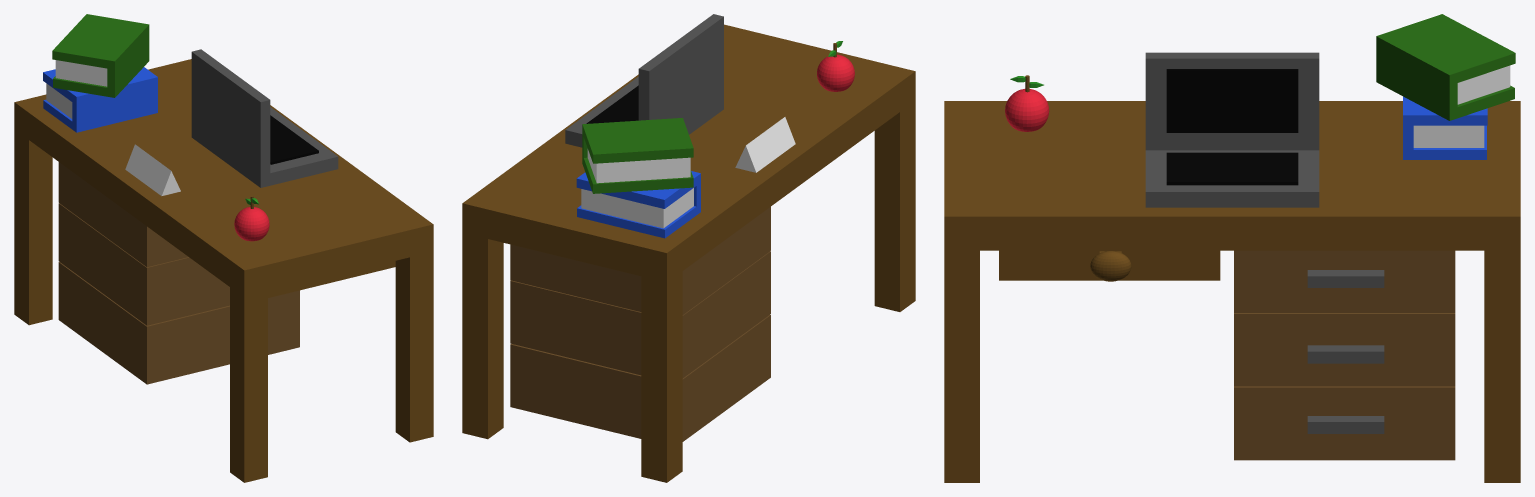
Rendered from teacherDesk.fbx.
3 renders of one model, left to right at view 1: azimuth 30°, elevation 25°; view 2: azimuth 150°, elevation 25°; view 3: azimuth 270°, elevation 25°, orthographic. The views are drawn at different scales.
Parts seen in each view (by area): view 1: table, drawer1, laptop, drawer2, bookCover.001, drawer3, bookCover, nameplate, keyboard, bookPaper.001, apple, singleDrawer (+1 smaller); view 2: table, drawer1, drawer2, drawer3, laptop, bookCover.001, bookCover, bookPaper, bookPaper.001, nameplate, apple, keyboard; view 3: table, drawer1, drawer2, laptop, drawer3, bookCover.001, screen, singleDrawer, keyboard, bookCover, bookPaper, apple (+4 smaller).
Part boxes in pixels (<box>): table: <box>14,59,433,482</box>; drawer1: <box>58,262,299,384</box>; laptop: <box>191,49,338,187</box>; drawer2: <box>58,203,229,325</box>; bookCover.001: <box>52,14,149,97</box>; drawer3: <box>58,162,188,267</box>; bookCover: <box>43,67,157,132</box>; nameplate: <box>125,144,180,195</box>; keyboard: <box>270,115,318,164</box>; bookPaper.001: <box>55,60,107,86</box>; apple: <box>234,207,269,241</box>; singleDrawer: <box>268,261,395,297</box>; table: <box>462,24,915,482</box>; drawer1: <box>510,315,770,441</box>; drawer2: <box>510,251,770,378</box>; drawer3: <box>510,207,770,314</box>; laptop: <box>565,14,723,147</box>; bookCover.001: <box>582,118,693,193</box>; bookCover: <box>576,171,700,238</box>; bookPaper: <box>581,188,693,228</box>; bookPaper.001: <box>587,149,690,183</box>; nameplate: <box>735,117,795,172</box>; apple: <box>817,54,854,91</box>; keyboard: <box>586,85,638,123</box>; table: <box>944,101,1520,482</box>; drawer1: <box>1234,386,1455,460</box>; drawer2: <box>1234,313,1455,386</box>; laptop: <box>1145,52,1319,207</box>; drawer3: <box>1234,250,1455,312</box>; bookCover.001: <box>1376,14,1515,120</box>; screen: <box>1166,69,1298,132</box>; singleDrawer: <box>999,250,1220,281</box>; keyboard: <box>1166,152,1298,185</box>; bookCover: <box>1403,96,1487,159</box>; bookPaper: <box>1413,125,1484,147</box>; apple: <box>1005,89,1049,131</box>.
Size of the model in its own units: 260 by 373 by 521.
